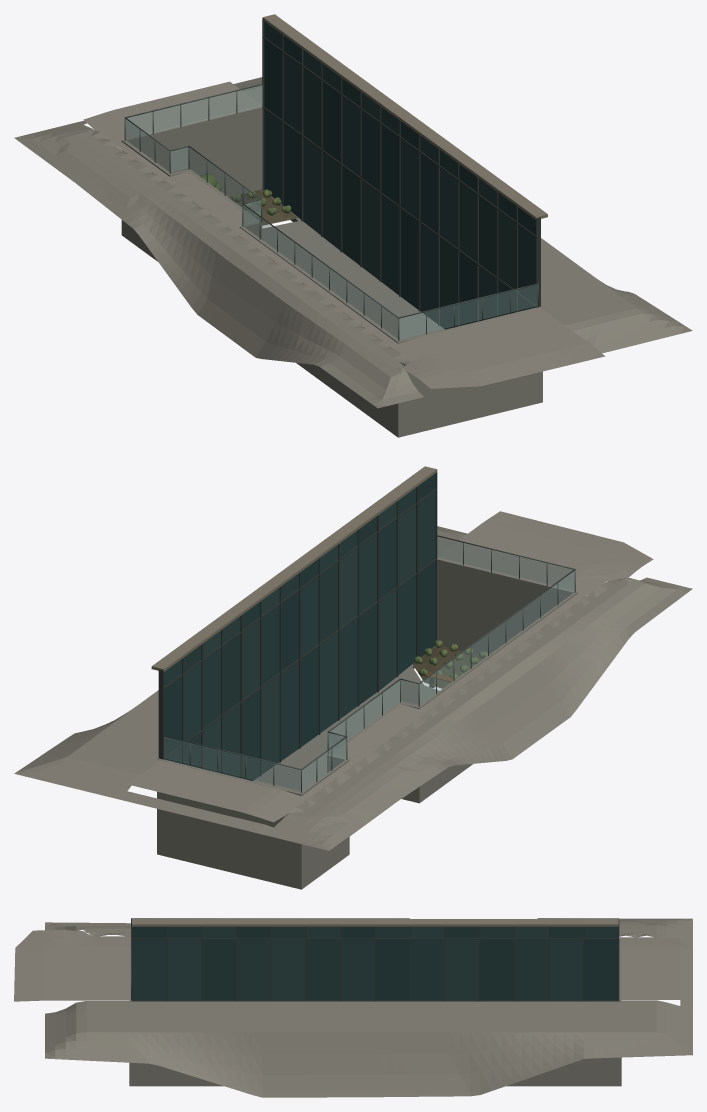
Rendered from site.glb.
3 renders of one model, top to bottom at view 1: azimuth 30°, elevation 25°; view 2: azimuth 150°, elevation 25°; view 3: azimuth 270°, elevation 25°, orthographic. The views are drawn at different scales.
Parts seen in each view (by area): view 1: price-courtyard-pavilion-glazing, price-courtyard-terrain-tie, price-courtyard-terrace, price-courtyard-retaining-walls, price-courtyard-pavilion-frames, price-courtyard-glass, price-courtyard-floor, price-courtyard-rail, price-courtyard-planted-beds, price-courtyard-planting; view 2: price-courtyard-pavilion-glazing, price-courtyard-terrain-tie, price-courtyard-retaining-walls, price-courtyard-terrace, price-courtyard-pavilion-frames, price-courtyard-glass, price-courtyard-floor, price-courtyard-rail, price-courtyard-planted-beds, price-courtyard-planting; view 3: price-courtyard-terrain-tie, price-courtyard-pavilion-glazing, price-courtyard-terrace, price-courtyard-pavilion-frames, price-courtyard-retaining-walls, price-courtyard-rail.
Boxes of the visible parts, x1,y1,x2,y2 form: price-courtyard-pavilion-glazing: (264, 21, 535, 329); price-courtyard-terrain-tie: (14, 77, 692, 408); price-courtyard-terrace: (83, 81, 604, 388); price-courtyard-retaining-walls: (121, 106, 542, 437); price-courtyard-pavilion-frames: (262, 14, 547, 326); price-courtyard-glass: (125, 85, 537, 339); price-courtyard-floor: (262, 196, 444, 340); price-courtyard-rail: (124, 83, 538, 341); price-courtyard-planted-beds: (228, 189, 297, 225); price-courtyard-planting: (199, 174, 291, 218); price-courtyard-pavilion-glazing: (164, 473, 435, 780); price-courtyard-terrain-tie: (14, 526, 692, 850); price-courtyard-retaining-walls: (157, 558, 577, 889); price-courtyard-terrace: (127, 511, 653, 822); price-courtyard-pavilion-frames: (151, 466, 437, 778); price-courtyard-glass: (164, 537, 574, 790); price-courtyard-floor: (253, 647, 439, 792); price-courtyard-rail: (163, 535, 575, 792); price-courtyard-planted-beds: (412, 646, 483, 688); price-courtyard-planting: (413, 640, 487, 678); price-courtyard-terrain-tie: (45, 918, 692, 1097); price-courtyard-pavilion-glazing: (132, 926, 617, 1000); price-courtyard-terrace: (14, 930, 680, 1001); price-courtyard-pavilion-frames: (131, 919, 619, 1001); price-courtyard-retaining-walls: (129, 938, 621, 1086); price-courtyard-rail: (131, 918, 618, 999).
Size of the model in its own units: 15 by 8.43 by 31.44.
